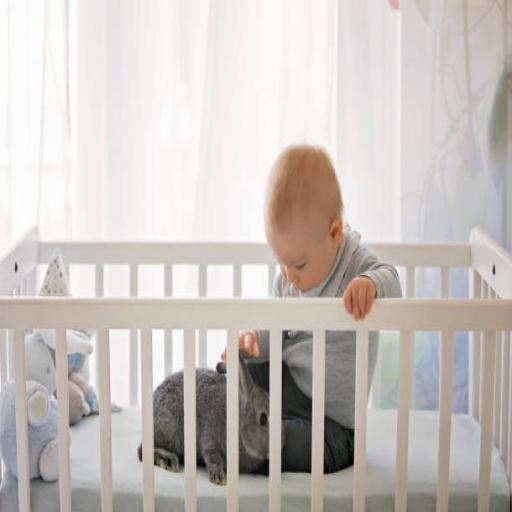baby: (265, 146, 401, 320)
crib: (0, 229, 511, 510)
